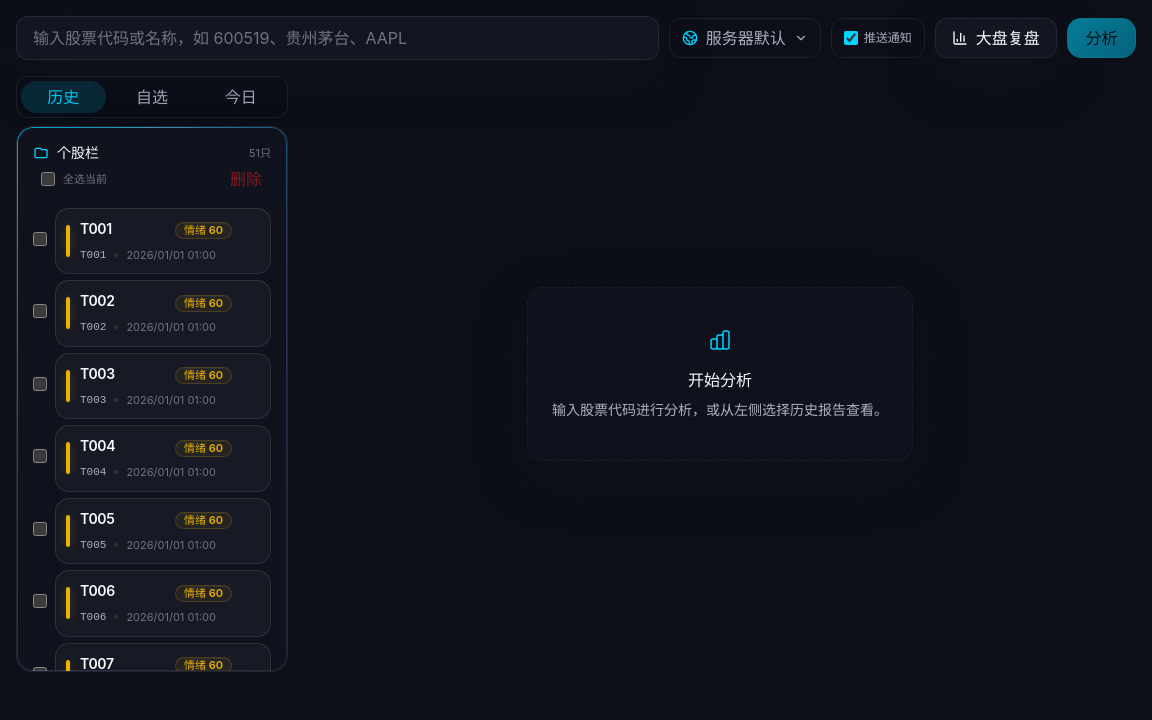
Test: HomePage › reports partial watchlist submission and refreshes accepted tasks after a later chunk fails
What coordinates should you click on to do the following:
click the button "自选"
I would click on:
 (152, 97)
Its box is [110,81,194,113].
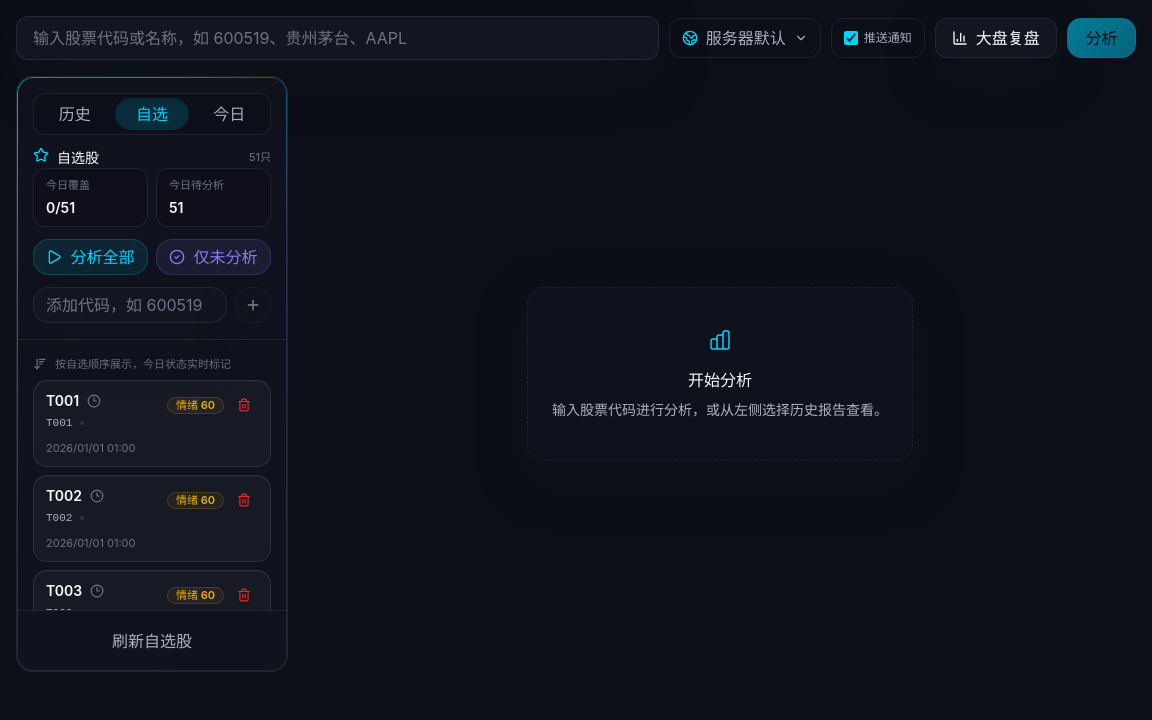
What coordinates should you click on to do the following:
click the button "分析全部"
I would click on:
 (90, 256)
Its box is [33,238,148,274].
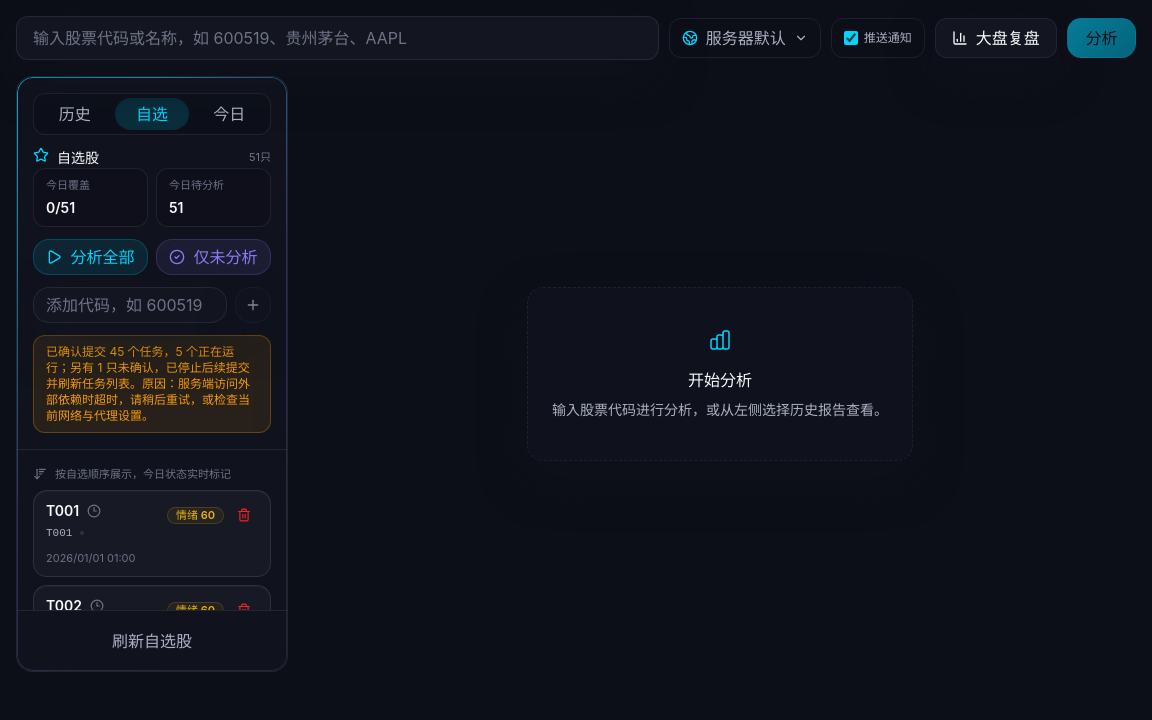
Now the text "已确认提交 45 个任务，5 个正在运行；另有 1 只未确认" shows "已停止后续提交并刷新任务列表", box [46,344,250,422]
Now the text "已确认提交 45 个任务，5 个正在运行；另有 1 只未确认" shows "服务端访问外部依赖时超时", box [46,344,250,422]
